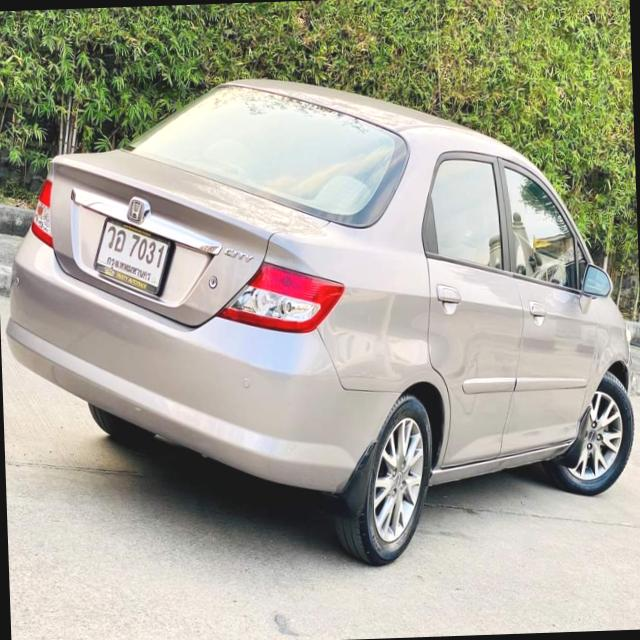license_plate: (89, 207, 178, 302)
